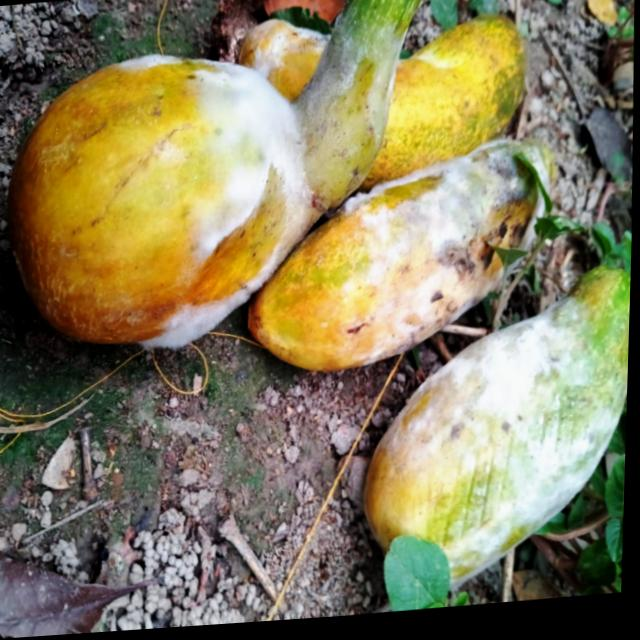Pythium-Fruit-Rot: (112, 21, 414, 356), (391, 298, 632, 599), (342, 131, 557, 369), (240, 12, 339, 81)
